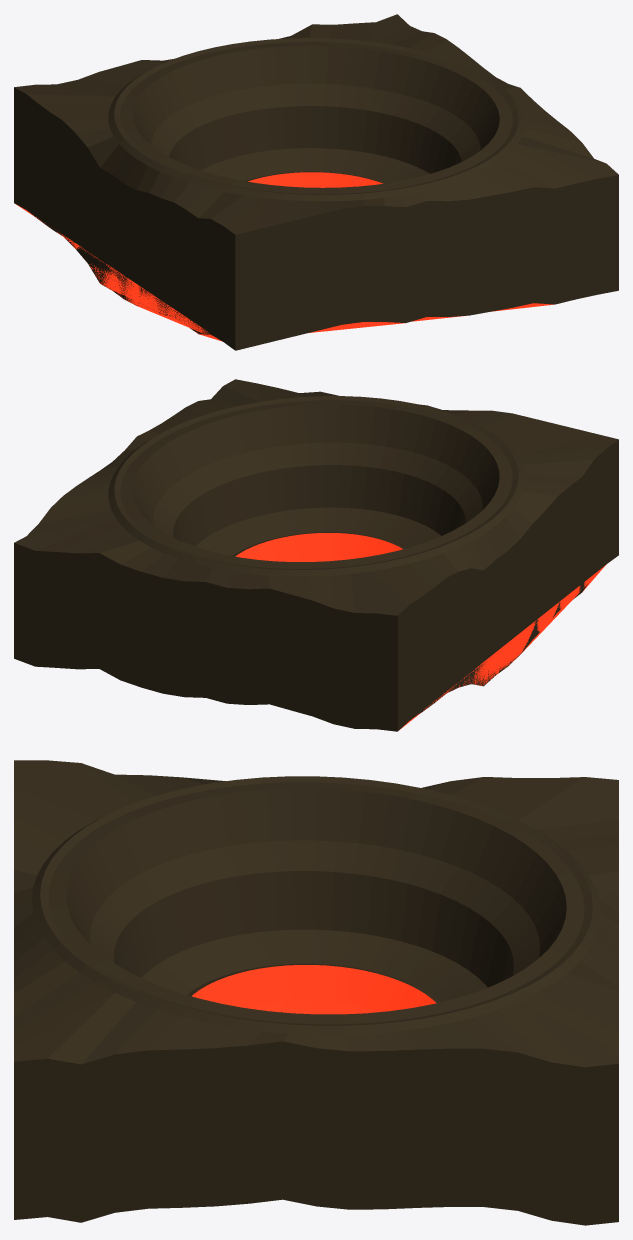
Rendered from Pit Tile Final Center.fbx.
The picture shows the model from 3 angles, top to bottom: view 1: azimuth 30°, elevation 25°; view 2: azimuth 150°, elevation 25°; view 3: azimuth 270°, elevation 25°; orthographic projection. The views are drawn at different scales.
Visible parts, largest first — view 1: Center Pit Tile; view 2: Center Pit Tile; view 3: Center Pit Tile.
Part boxes in pixels (<box>): Center Pit Tile: <box>14,14,618,350</box>; Center Pit Tile: <box>14,379,618,731</box>; Center Pit Tile: <box>14,760,618,1225</box>.
Size of the model in its own units: 200 by 76.54 by 200.
